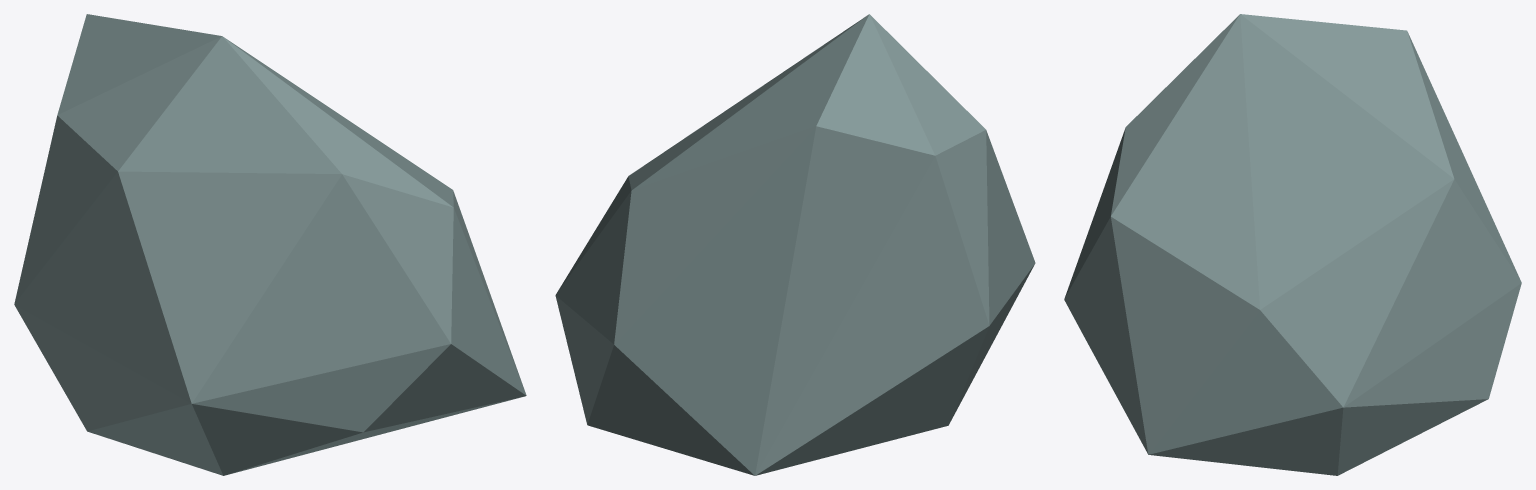
File: rock3.glb
The picture shows the model from 3 angles, left to right: view 1: azimuth 30°, elevation 25°; view 2: azimuth 150°, elevation 25°; view 3: azimuth 270°, elevation 25°; orthographic projection. The views are drawn at different scales.
Parts seen in each view (by area): view 1: Icosphere.003; view 2: Icosphere.003; view 3: Icosphere.003.
Boxes of the visible parts, x1=… form: Icosphere.003: x1=14, y1=14, x2=526, y2=475; Icosphere.003: x1=555, y1=14, x2=1035, y2=475; Icosphere.003: x1=1064, y1=14, x2=1521, y2=475.
Bounding box in the file's own units: 1.85 × 1.67 × 1.92.
